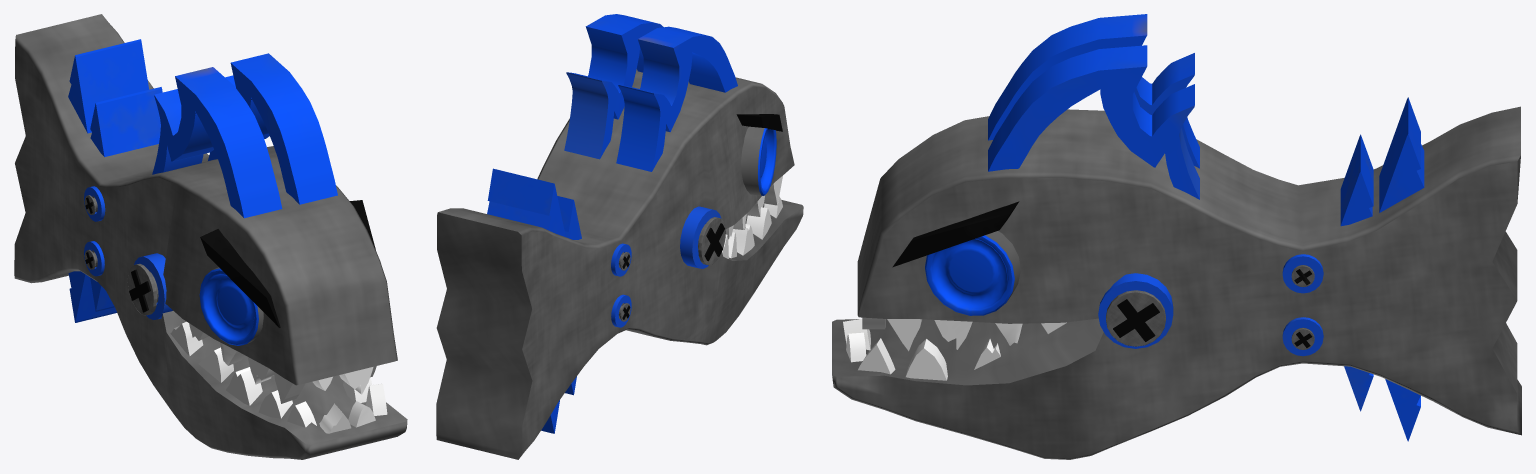
Rendered from Vis fbx.fbx.
3 views of the same model, side by side, from view 1: azimuth 30°, elevation 25°; view 2: azimuth 150°, elevation 25°; view 3: azimuth 270°, elevation 25° (orthographic). The views are drawn at different scales.
Parts seen in each view (by area): view 1: pCube48; view 2: pCube48; view 3: pCube48.
Part boxes in pixels (<box>): pCube48: <box>14,14,407,459</box>; pCube48: <box>436,14,803,459</box>; pCube48: <box>832,14,1521,459</box>.
Bounding box in the file's own units: 4.56 × 8.45 × 13.59.
Materials: 1 (1 with a texture image).
